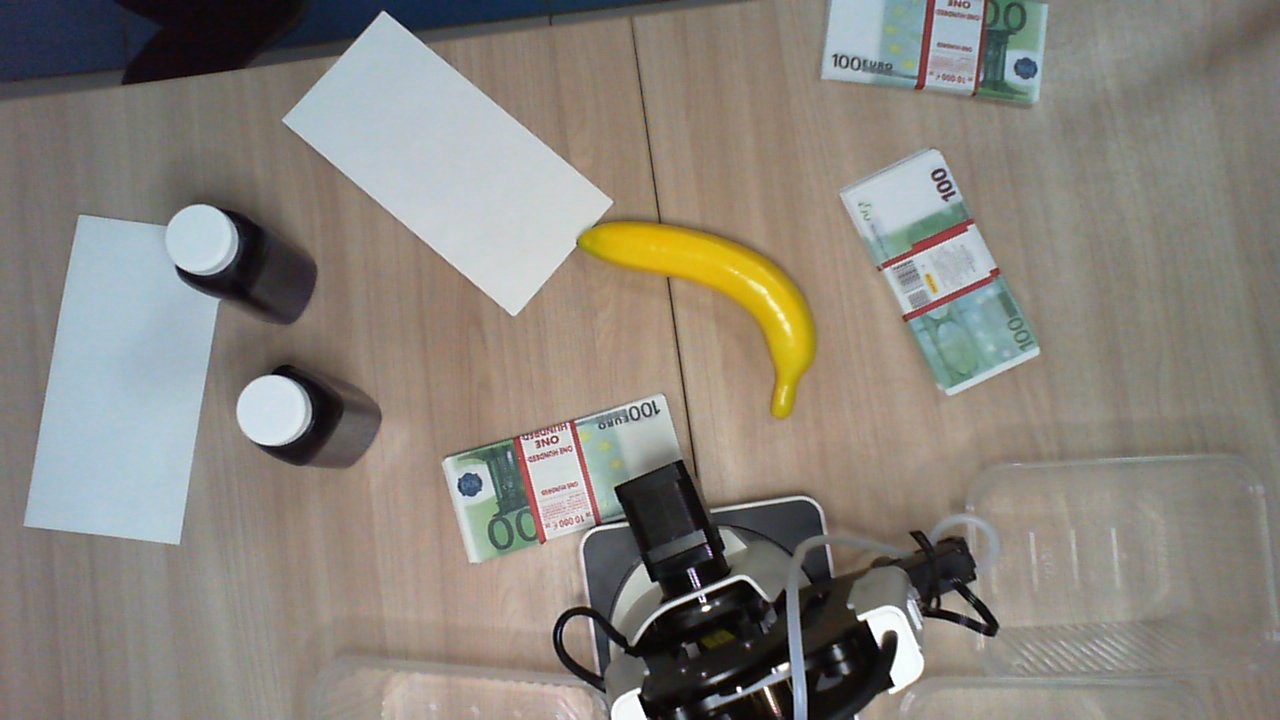banana: (573, 220, 821, 420)
bottle: (231, 366, 333, 471), (164, 203, 249, 295)
convert: (279, 10, 609, 312), (23, 215, 229, 548)
money: (834, 148, 1043, 397), (442, 390, 690, 565), (823, 1, 1050, 105)
